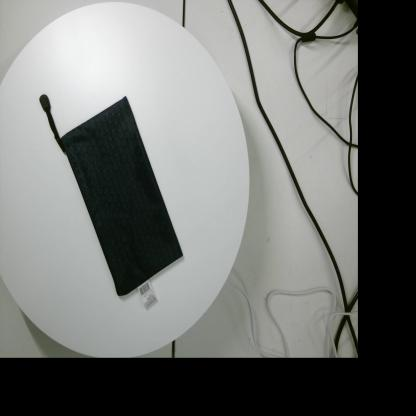Stationery: (40, 94, 184, 309)
